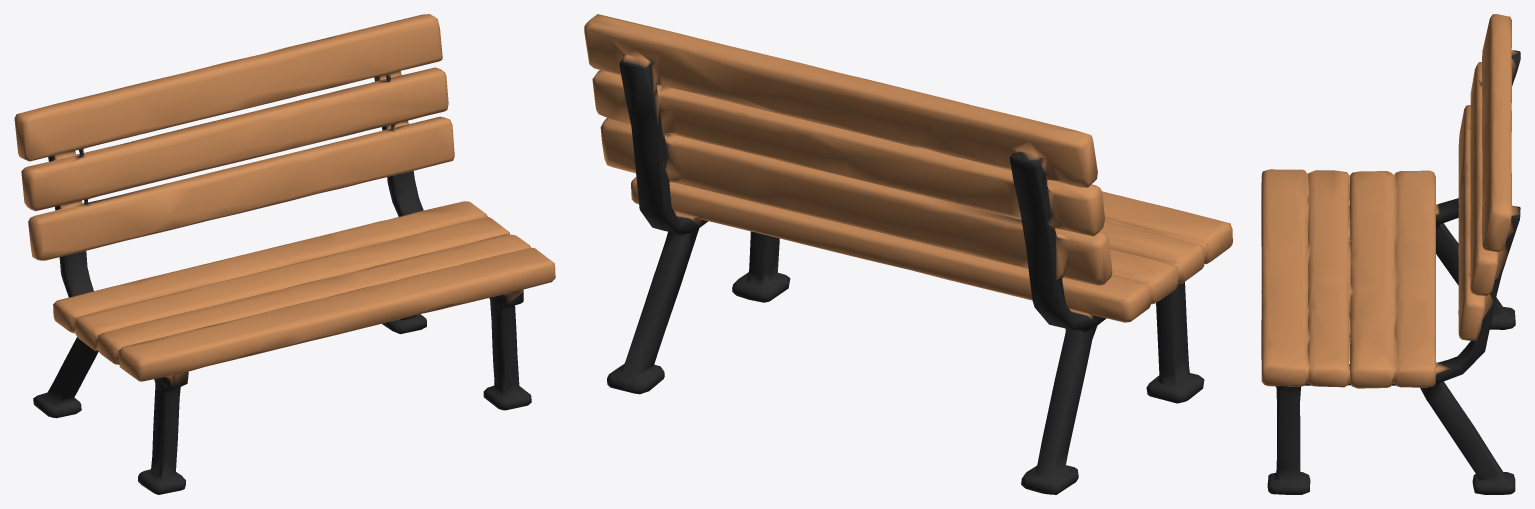
The model's file is gen3d-park-bench-lod0.glb.
3 views of the same model, side by side, from view 1: azimuth 30°, elevation 25°; view 2: azimuth 150°, elevation 25°; view 3: azimuth 270°, elevation 25° (orthographic). The views are drawn at different scales.
Parts seen in each view (by area): view 1: part_0; view 2: part_0; view 3: part_0.
Boxes of the visible parts, bbox=[...] form: part_0: bbox=[14, 14, 555, 494]; part_0: bbox=[584, 14, 1232, 494]; part_0: bbox=[1261, 14, 1520, 494].
Bounding box in the file's own units: 1.54 × 1.06 × 0.8445.
